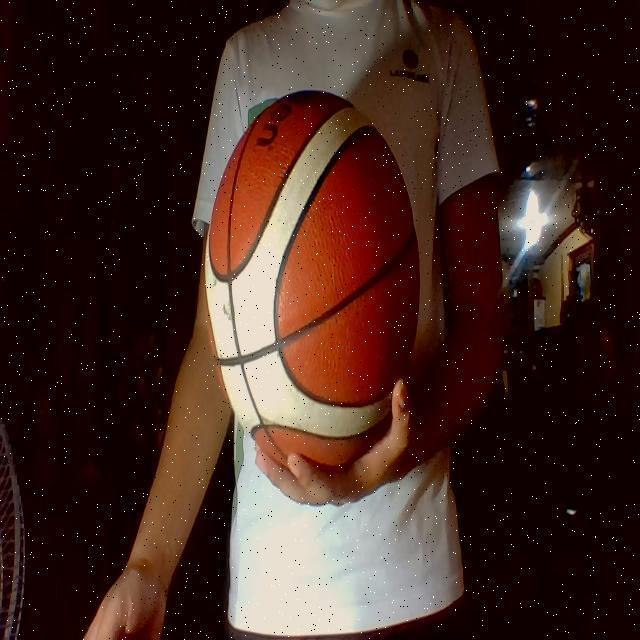ball: (204, 88, 420, 480)
